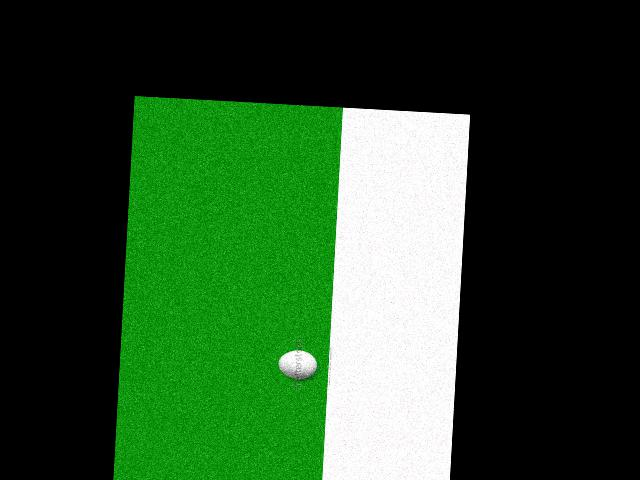egg: (278, 349, 317, 379)
